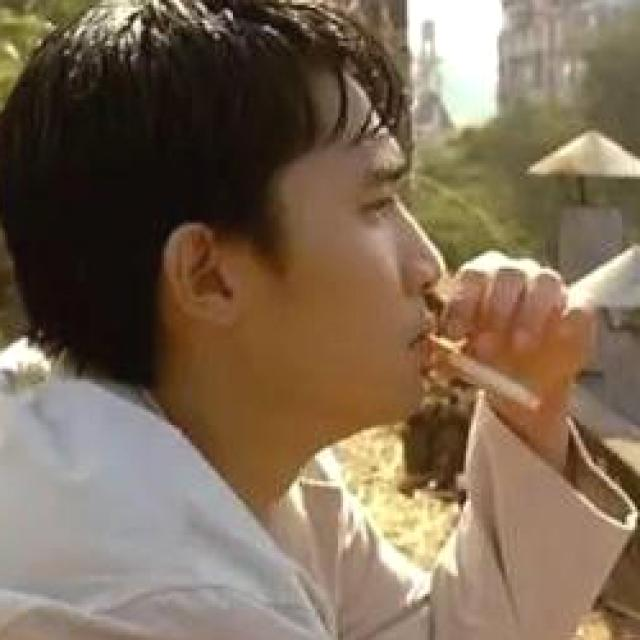Smooking: (442, 330, 550, 436)
